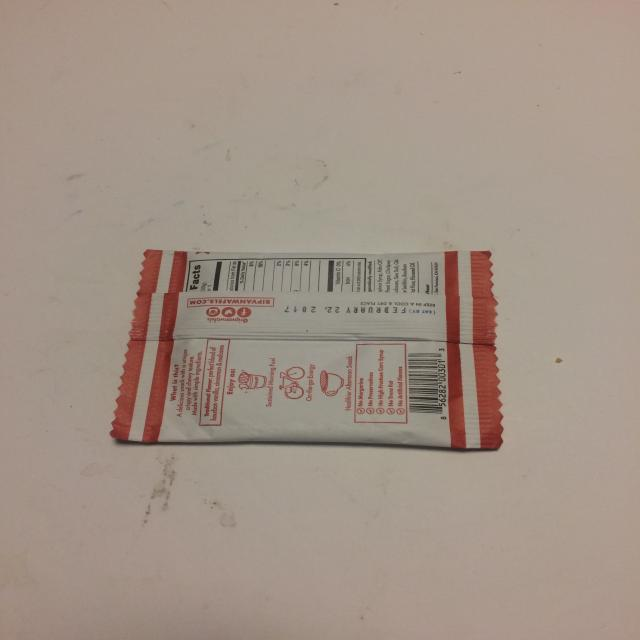trash: (110, 248, 504, 451)
